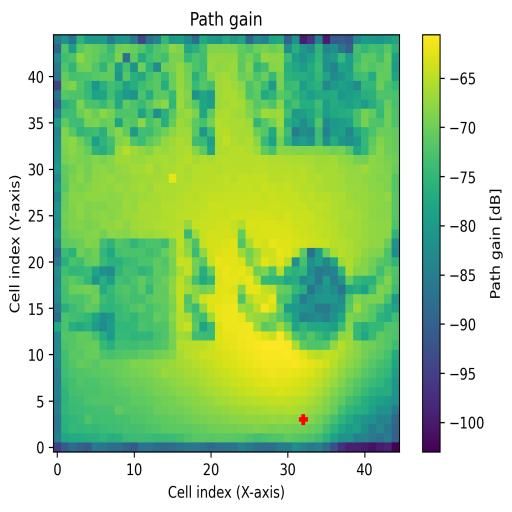Concrete: (284, 42, 368, 156)
Glass: (116, 44, 178, 158)
Metal: (275, 249, 354, 351)
Wood: (100, 237, 177, 359)
